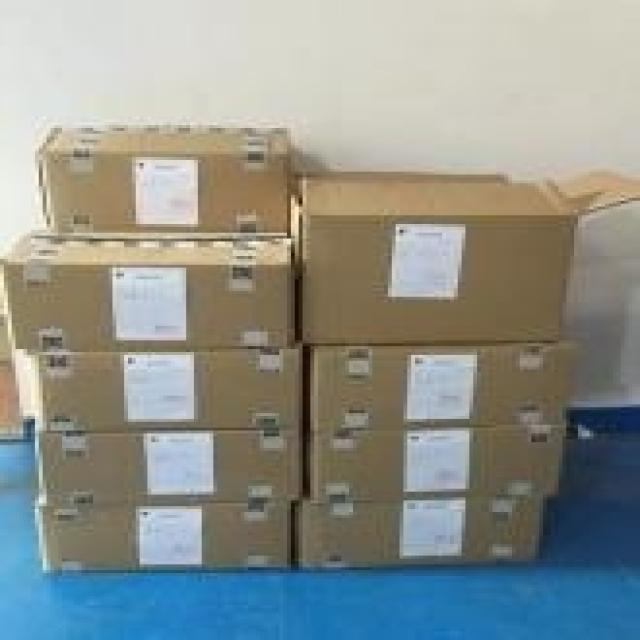Carton: (299, 346, 566, 567), (31, 352, 295, 570), (4, 122, 295, 259), (295, 212, 574, 343), (0, 259, 291, 346)
